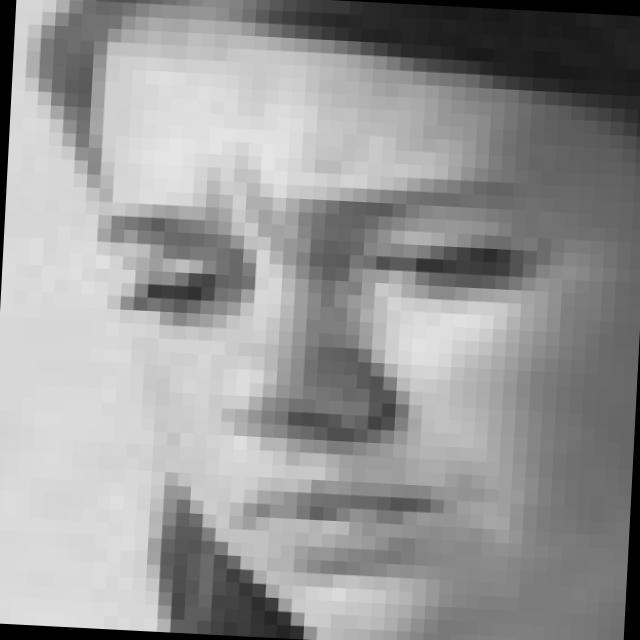sad: (104, 137, 551, 600)
